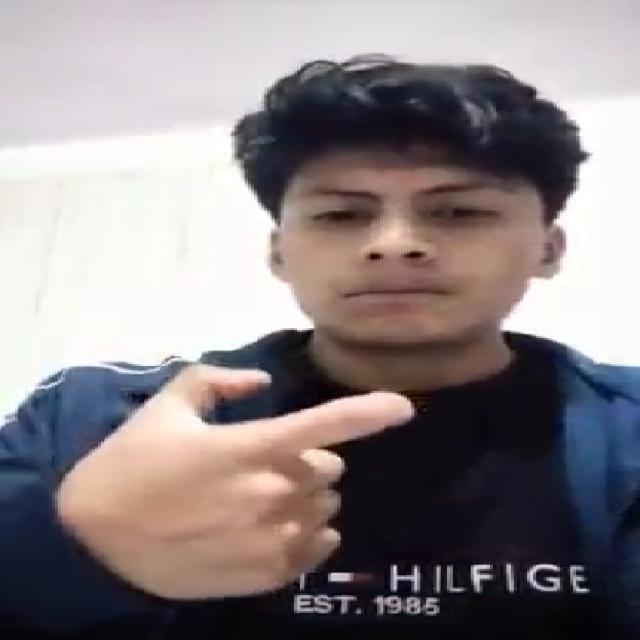X: (26, 348, 470, 609)
